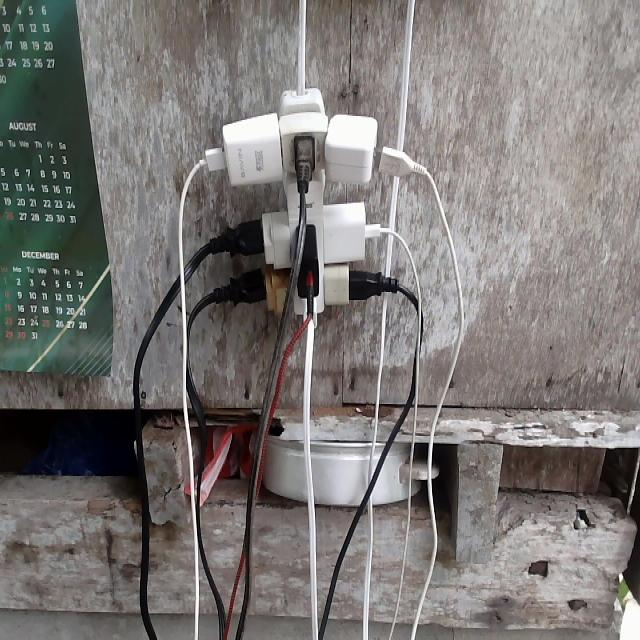-: (203, 86, 407, 326)
